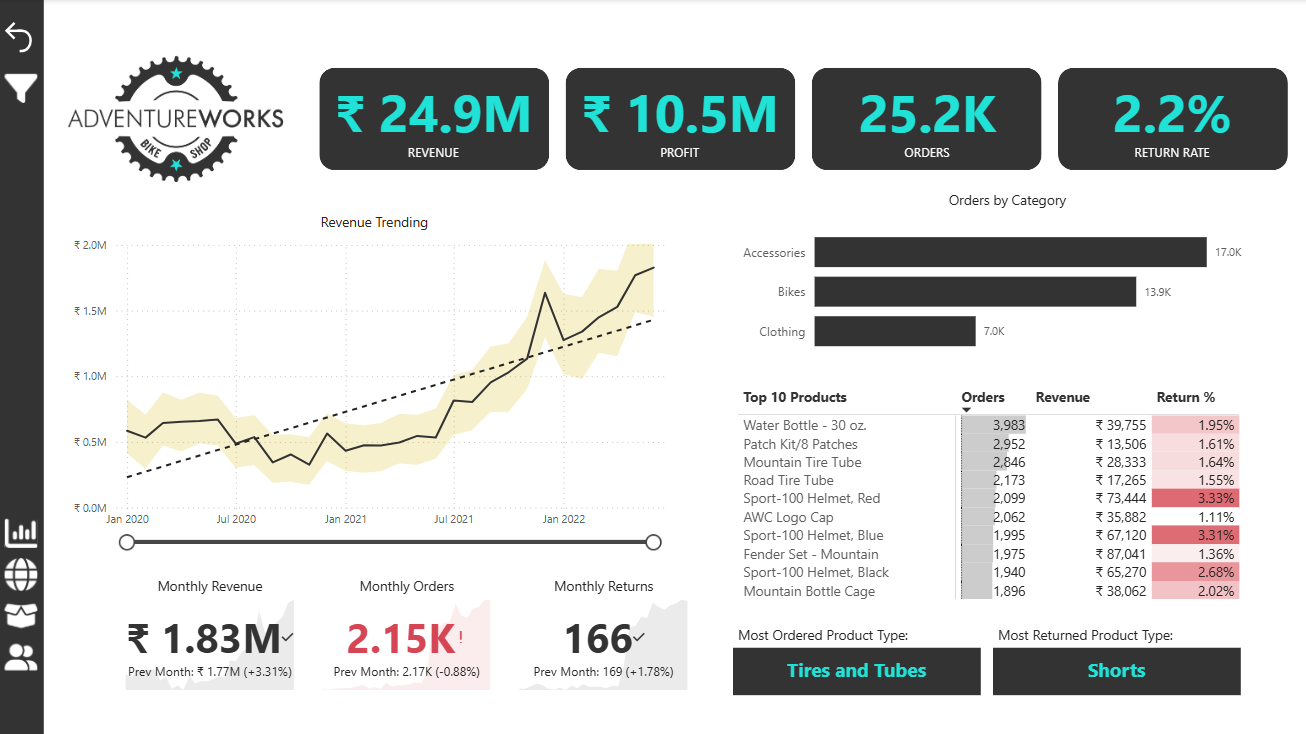

This screenshot's page, from the dashboard's own definition file:
{"tool":"powerbi","page":{"name":"Exec Dashboard","canvas":[1280,720],"ordinal":0},"visuals":[{"type":"image","title":"AW Logo","box":[45.2,36.7,258,161.4],"z":0},{"type":"card","fields":{"Values":["Measure Table.Total Revenue"]},"box":[286.1,36.7,280,161.4],"z":0,"group":"g2"},{"type":"shape","box":[314.2,67.3,225,100.3],"z":0,"group":"g1"},{"type":"group","id":"g1","title":"KPI Backgrounds","box":[314.2,67.3,947.7,100.3],"z":0,"group":"g3"},{"type":"shape","title":"Left Nav Background","box":[0,0,45,720.2],"z":1000},{"type":"group","id":"g2","title":"KPI Values","box":[286.1,36.7,969.7,161.4],"z":1000,"group":"g3"},{"type":"card","fields":{"Values":["Measure Table.Total Orders"]},"box":[769.1,36.7,280,161.4],"z":1000,"group":"g2"},{"type":"shape","box":[555.1,67.3,225,100.3],"z":1000,"group":"g1"},{"type":"group","id":"g3","title":"KPIs","box":[286.1,36.7,975.8,161.4],"z":2000},{"type":"card","fields":{"Values":["Measure Table.Total Profit"]},"box":[527,36.7,280,161.4],"z":2000,"group":"g2"},{"type":"shape","box":[796,67.3,225,100.3],"z":2000,"group":"g1"},{"type":"card","fields":{"Values":["Measure Table.Return Rate"]},"box":[1041.8,47.7,214,139.4],"z":3000,"group":"g2"},{"type":"shape","box":[1036.9,67.3,225,100.3],"z":3000,"group":"g1"},{"type":"lineChart","title":"Revenue Trending","fields":{"Category":["Calendar Lookup.Start of Month"],"Y":["Measure Table.Total Revenue"]},"box":[68.5,209.1,599.2,332.6],"z":3000},{"type":"kpi","title":"Monthly Revenue","fields":{"Goal":["Measure Table.Previous Month Revenue"],"Indicator":["Measure Table.Total Revenue"],"TrendLine":["Calendar Lookup.Start of Month"]},"box":[119.8,564.9,174.9,116.2],"z":4000},{"type":"kpi","title":"Monthly Orders","fields":{"Goal":["Measure Table.Previous Month Orders"],"Indicator":["Measure Table.Total Orders"],"TrendLine":["Calendar Lookup.Start of Month"]},"box":[313,564.9,173.6,116.2],"z":5000},{"type":"kpi","title":"Monthly Returns","fields":{"Goal":["Measure Table.Previous Month Returns"],"Indicator":["Measure Table.Total Returns"],"TrendLine":["Calendar Lookup.Start of Month"]},"box":[505,564.9,174.9,116.2],"z":6000},{"type":"clusteredBarChart","title":"Orders by Category","fields":{"Category":["Product Categories Lookup.CategoryName"],"Y":["Measure Table.Total Orders"]},"box":[719,187.1,536.8,174.9],"z":7000},{"type":"pivotTable","fields":{"Rows":["Product Lookup.ProductName"],"Values":["Measure Table.Total Orders","Measure Table.Total Revenue","Measure Table.Return Rate"]},"box":[719,375.4,508.7,220.1],"z":8000},{"type":"card","fields":{"Values":["Min(Product Subcategories Lookup.SubcategoryName)"]},"box":[719,634.7,242.1,46.5],"z":9000},{"type":"textbox","box":[719,607.7,190.8,30.6],"z":10000},{"type":"card","fields":{"Values":["Min(Product Subcategories Lookup.SubcategoryName)"]},"box":[973.4,634.7,242.1,46.5],"z":11000},{"type":"textbox","box":[973.4,607.7,190.8,30.6],"z":12000},{"type":"actionButton","box":[0,17.1,45.2,40.4],"z":13000},{"type":"actionButton","box":[1.8,502.6,45.2,40.4],"z":14000},{"type":"actionButton","box":[1.8,542.9,45.2,40.4],"z":15000},{"type":"actionButton","box":[1.8,583.3,45.2,40.4],"z":16000},{"type":"actionButton","box":[1.8,623.6,45.2,40.4],"z":17000},{"type":"actionButton","box":[2.4,67.3,45.2,40.4],"z":18000}]}

Visuals, with their boxes on the page's 1280x720 design canvas (x1, y1, x2, y2). These are canvas units, not pixel positions in the 1306x734 screenshot, which may show the page scaled, cropped or inside an application window:
"AW Logo" image: 45,37,303,198
card - Measure Table.Total Revenue: 286,37,566,198
shape: 314,67,539,168
"KPI Backgrounds" group: 314,67,1262,168
"Left Nav Background" shape: 0,0,45,720
"KPI Values" group: 286,37,1256,198
card - Measure Table.Total Orders: 769,37,1049,198
shape: 555,67,780,168
"KPIs" group: 286,37,1262,198
card - Measure Table.Total Profit: 527,37,807,198
shape: 796,67,1021,168
card - Measure Table.Return Rate: 1042,48,1256,187
shape: 1037,67,1262,168
"Revenue Trending" lineChart: 68,209,668,542
"Monthly Revenue" kpi: 120,565,295,681
"Monthly Orders" kpi: 313,565,487,681
"Monthly Returns" kpi: 505,565,680,681
"Orders by Category" clusteredBarChart: 719,187,1256,362
pivotTable - Product Lookup.ProductName x Measure Table.Total Orders: 719,375,1228,596
card - Min(Product Subcategories Lookup.SubcategoryName): 719,635,961,681
textbox: 719,608,910,638
card - Min(Product Subcategories Lookup.SubcategoryName): 973,635,1216,681
textbox: 973,608,1164,638
actionButton: 0,17,45,58
actionButton: 2,503,47,543
actionButton: 2,543,47,583
actionButton: 2,583,47,624
actionButton: 2,624,47,664
actionButton: 2,67,48,108
